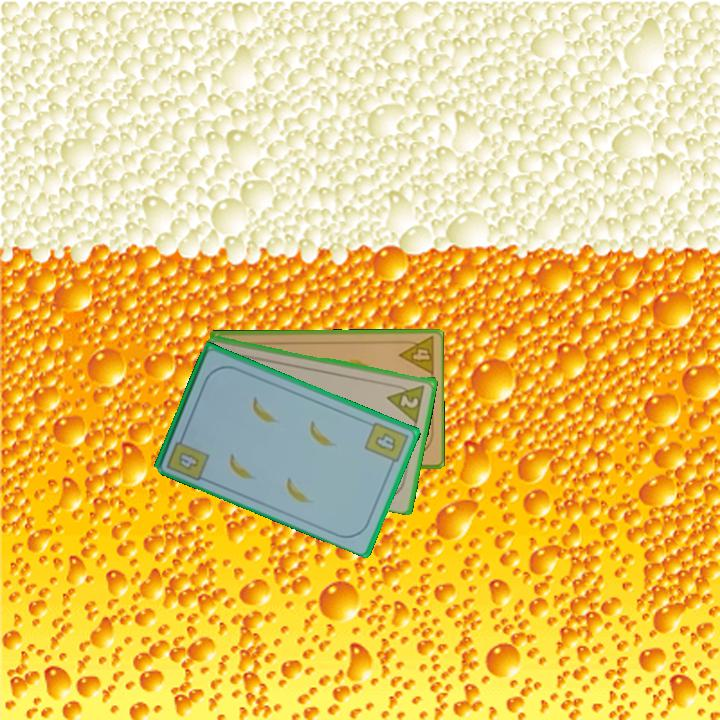2p: (384, 379, 428, 424)
4b: (361, 418, 411, 470), (163, 430, 212, 483)
4p: (394, 333, 436, 378)
